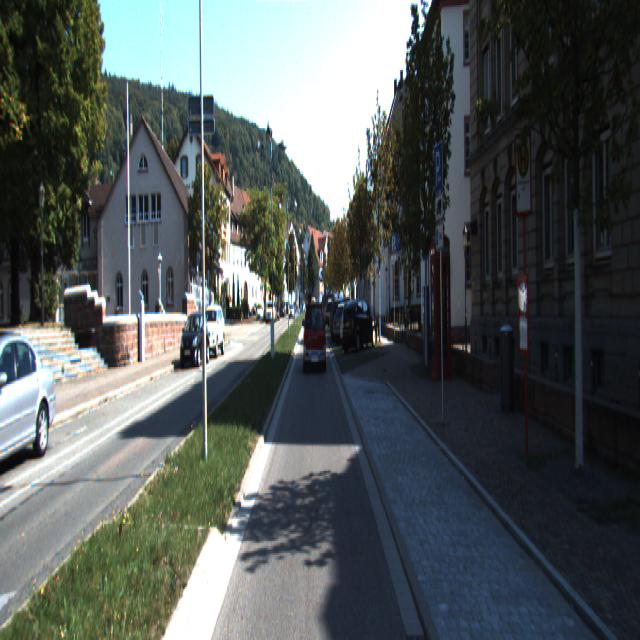Car: (0, 331, 59, 472), (341, 296, 378, 352), (340, 300, 376, 350), (180, 311, 212, 365), (304, 300, 327, 370), (332, 301, 368, 344), (198, 305, 226, 357)
DontCare: (252, 288, 298, 325)
